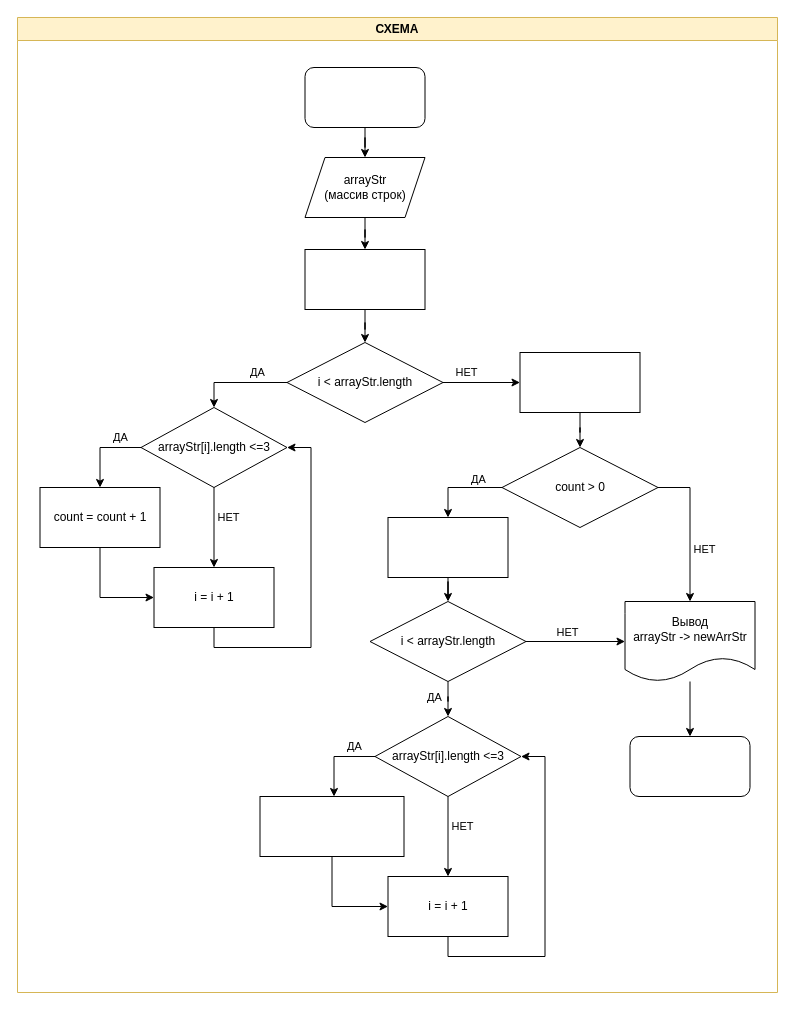
This 795x1010 diagram has some shape labels left out. The shapes that lost their labels are listed below. From the top down, each one's centre as x and y in pixels, then its label:
At [364,97]: "СТАРТ".
At [364,279]: "i = 0 count = 0".
At [579,382]: "newArrStr = [count] (новый массив)".
At [447,547]: "i = 0 j = 0".
At [689,766]: "ЗАВЕРШЕНИЕ".
At [331,826]: "newArrStr[j] = arrayStr[i] j = j + 1".
